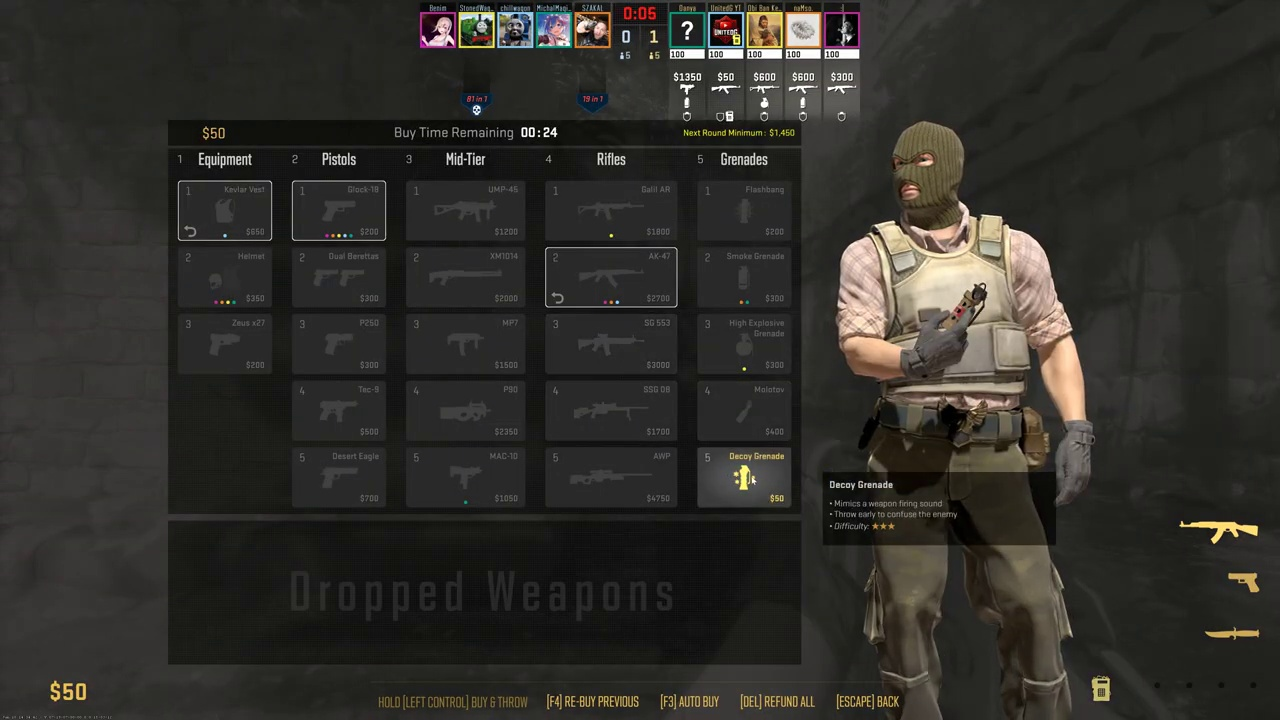Terrorist: (848, 120, 1075, 720)
